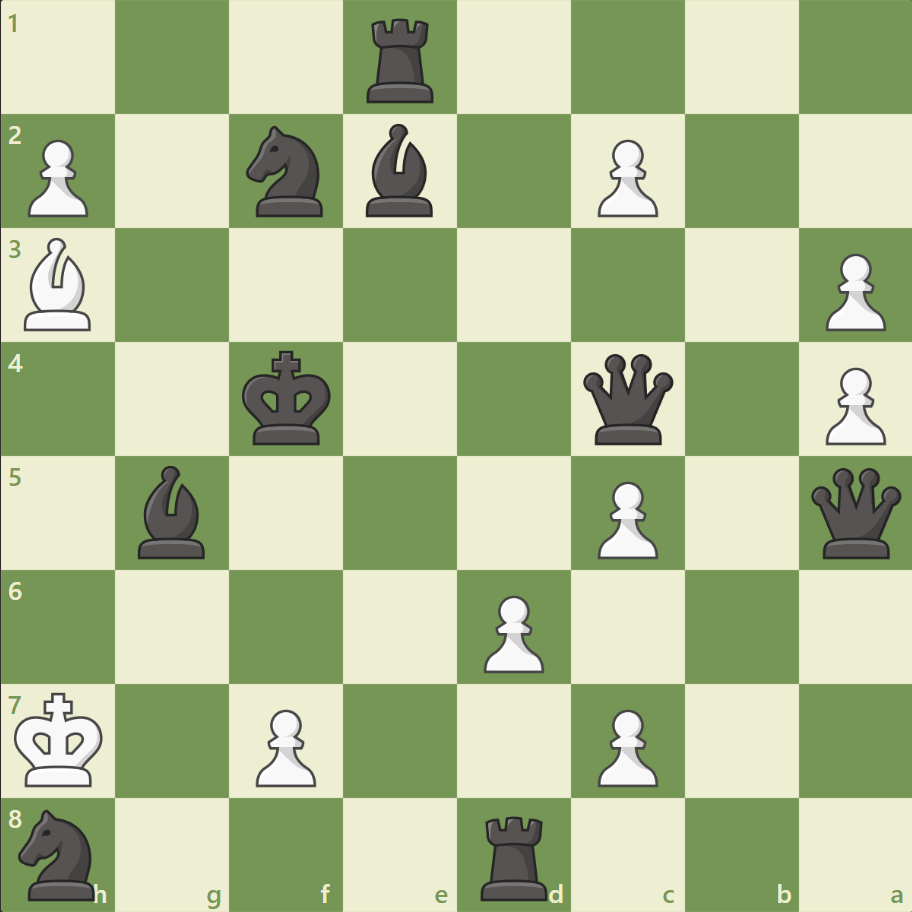B: (17, 233, 101, 336)
K: (11, 685, 111, 793)
P: (247, 700, 322, 791), (474, 586, 549, 677), (20, 132, 95, 223), (588, 700, 662, 791), (588, 473, 662, 564), (815, 359, 889, 450), (815, 246, 889, 337), (588, 132, 662, 223)
b: (131, 460, 215, 563), (358, 120, 442, 222)
k: (238, 344, 338, 452)
n: (11, 802, 108, 904), (238, 121, 335, 223)
q: (578, 349, 677, 449), (805, 463, 904, 562)
r: (473, 806, 556, 904), (360, 12, 442, 109)
